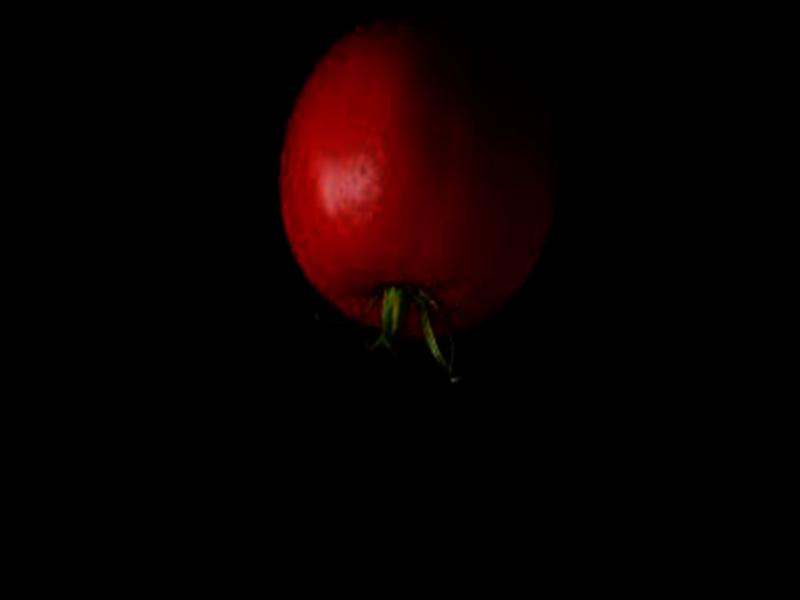Tomato: (265, 10, 572, 350)
